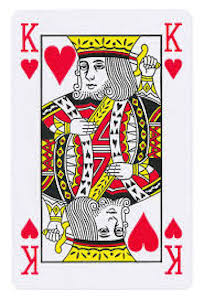KingOfHearts: (5, 7, 197, 293)
